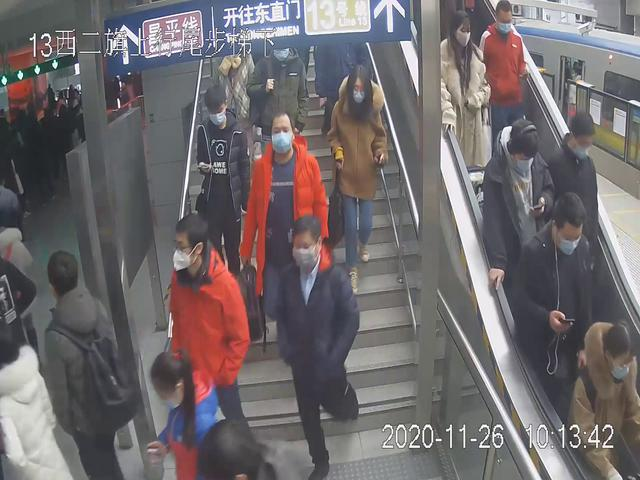person: (165, 212, 264, 464), (275, 211, 364, 480), (242, 108, 329, 368), (506, 188, 600, 411), (324, 60, 388, 303), (192, 83, 250, 291), (474, 1, 538, 179), (438, 9, 491, 198)
